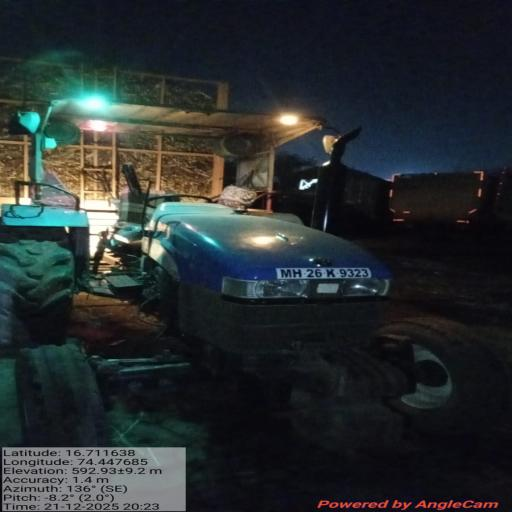number_plate: (269, 252, 384, 288)
